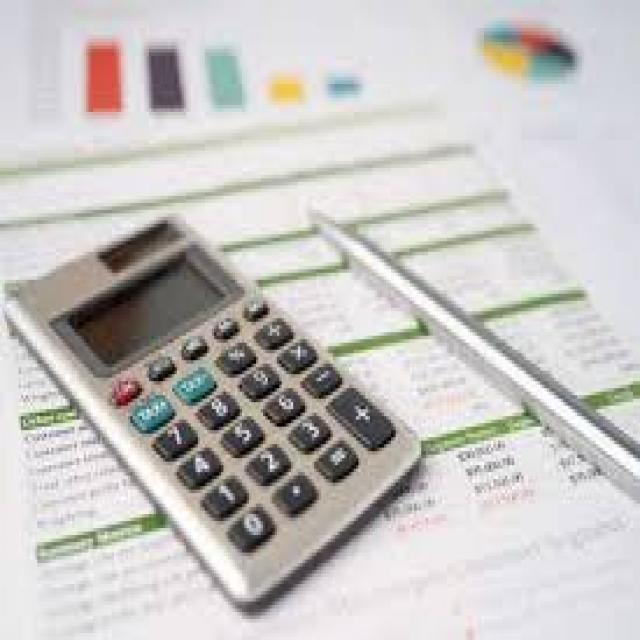Calculator: (0, 205, 445, 618)
